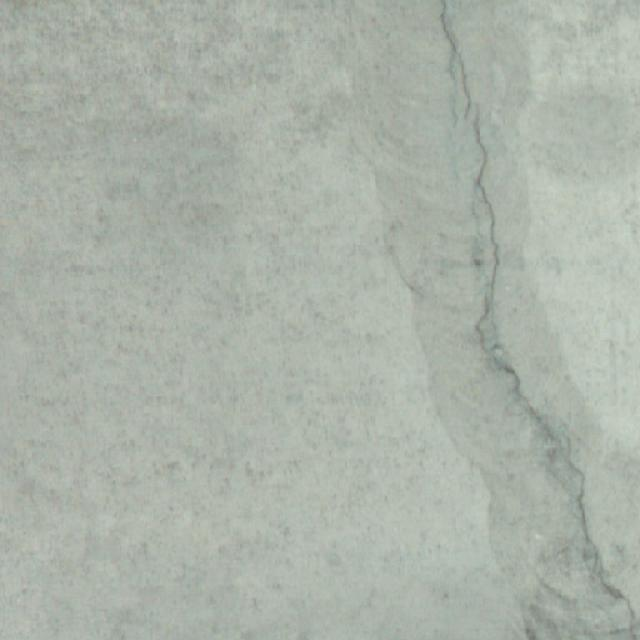Network: (428, 11, 640, 640)
Rippled: (6, 4, 417, 640)
